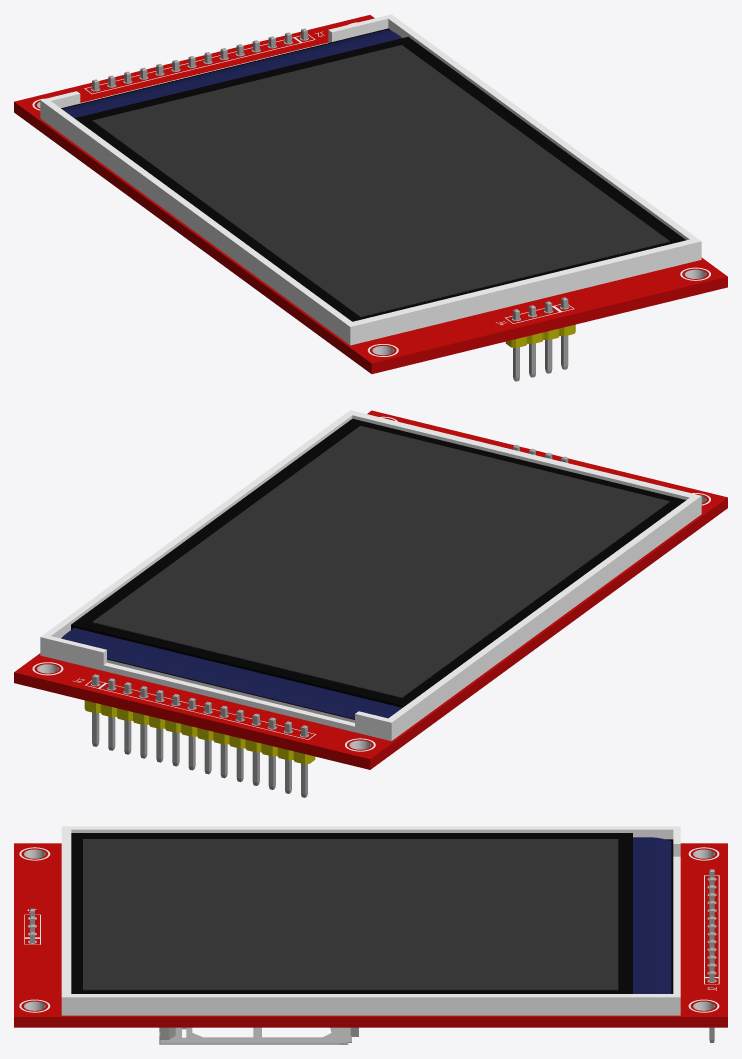
The model's file is 3.5 TFT Module - No Glass.gltf.
The picture shows the model from 3 angles, top to bottom: view 1: azimuth 30°, elevation 25°; view 2: azimuth 150°, elevation 25°; view 3: azimuth 270°, elevation 25°; orthographic projection.
Visible parts, largest first — view 1: Screen, 3.5 LCD TFT Screen without glass, 3.5 LCD TFT Module - Without Glass; view 2: Screen, 3.5 LCD TFT Screen without glass, 3.5 LCD TFT Module - Without Glass; view 3: Screen, 3.5 LCD TFT Screen without glass, 3.5 LCD TFT Module - Without Glass, 3.5 TFT Module - No Glass.
Part boxes in pixels (x1=…): Screen: x1=92, y1=45, x2=669, y2=317; 3.5 LCD TFT Screen without glass: x1=40, y1=14, x2=701, y2=345; 3.5 LCD TFT Module - Without Glass: x1=14, y1=15, x2=727, y2=381; Screen: x1=92, y1=425, x2=669, y2=697; 3.5 LCD TFT Screen without glass: x1=40, y1=410, x2=701, y2=741; 3.5 LCD TFT Module - Without Glass: x1=14, y1=410, x2=727, y2=797; Screen: x1=83, y1=839, x2=618, y2=990; 3.5 LCD TFT Screen without glass: x1=61, y1=826, x2=680, y2=1015; 3.5 LCD TFT Module - Without Glass: x1=14, y1=843, x2=727, y2=1042; 3.5 TFT Module - No Glass: x1=159, y1=1027, x2=358, y2=1044.
Size of the model in its own units: 0.0563 by 0.0121 by 0.098.
